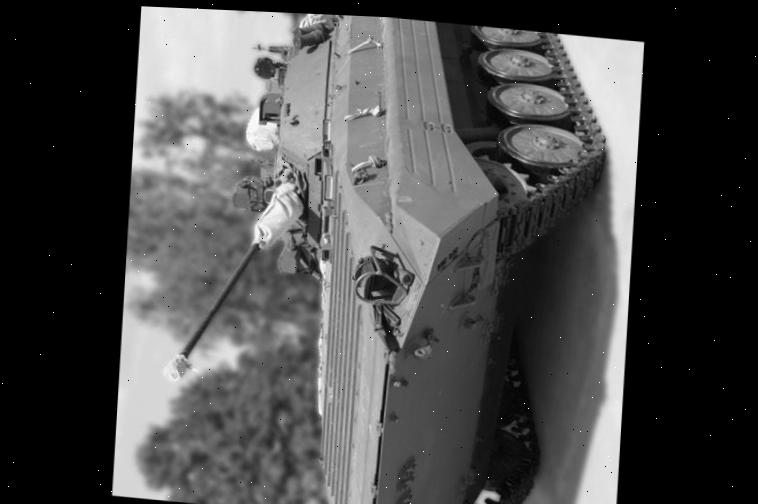tank: (154, 7, 614, 504)
